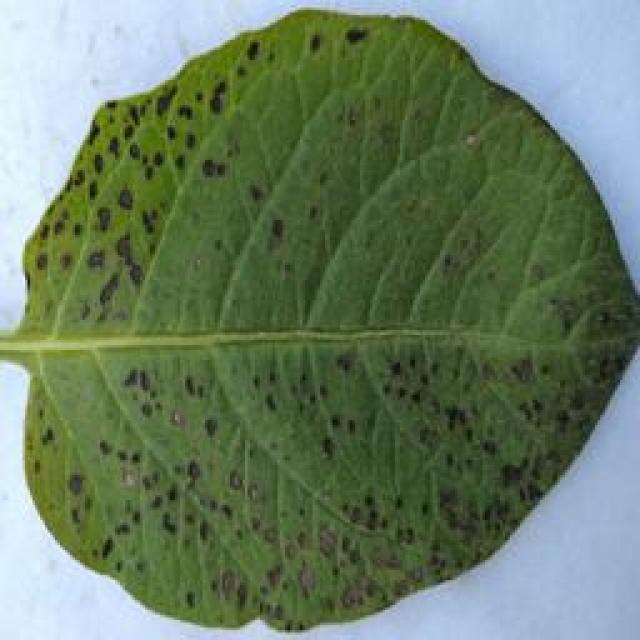Potato_Early_Blight: (26, 4, 640, 636)
